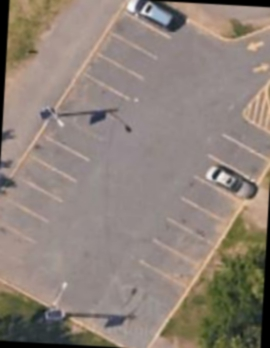parkingspot: (0, 0, 194, 290), (133, 107, 270, 294)
